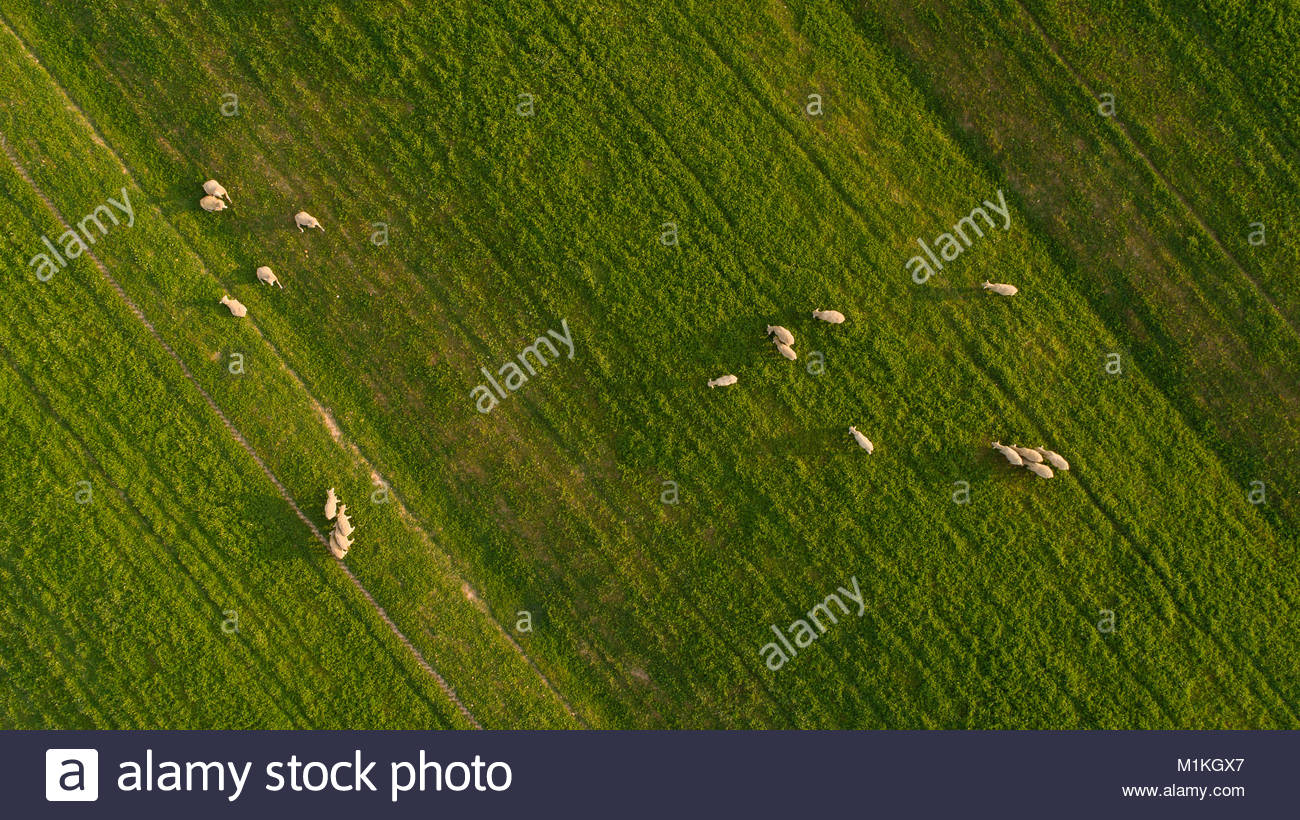sheep: (1035, 444, 1078, 472), (984, 280, 1030, 303), (328, 522, 361, 551), (1021, 456, 1061, 479), (222, 294, 253, 323), (848, 426, 876, 458), (811, 307, 846, 332), (704, 372, 742, 395), (992, 440, 1024, 467), (252, 265, 284, 292), (773, 337, 804, 364), (317, 487, 340, 523), (332, 502, 356, 536), (766, 320, 799, 344), (292, 211, 325, 235), (1012, 442, 1049, 463), (322, 533, 346, 562), (201, 196, 230, 211), (202, 178, 224, 196)
